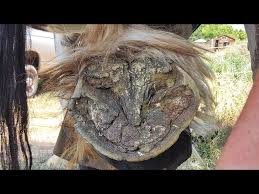horsesole: (66, 54, 200, 162)
